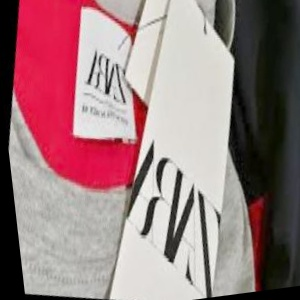zara: (177, 141, 300, 300), (93, 7, 177, 73)
